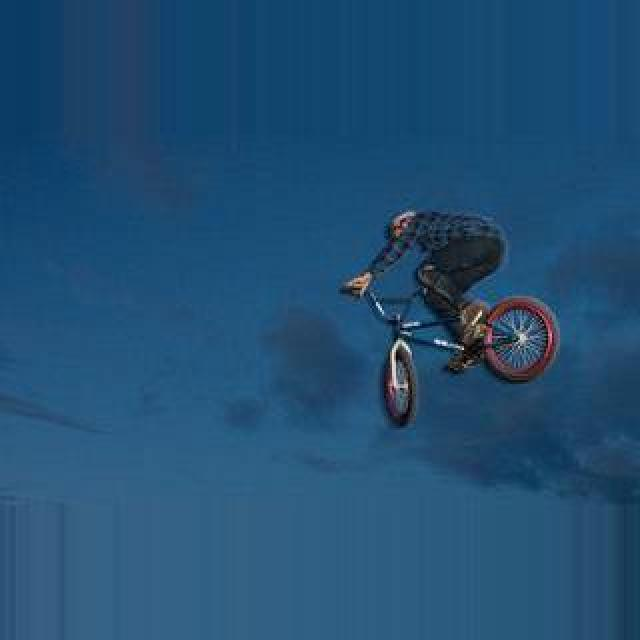MC-Bike: (340, 208, 508, 370)
Person: (357, 283, 561, 423)
